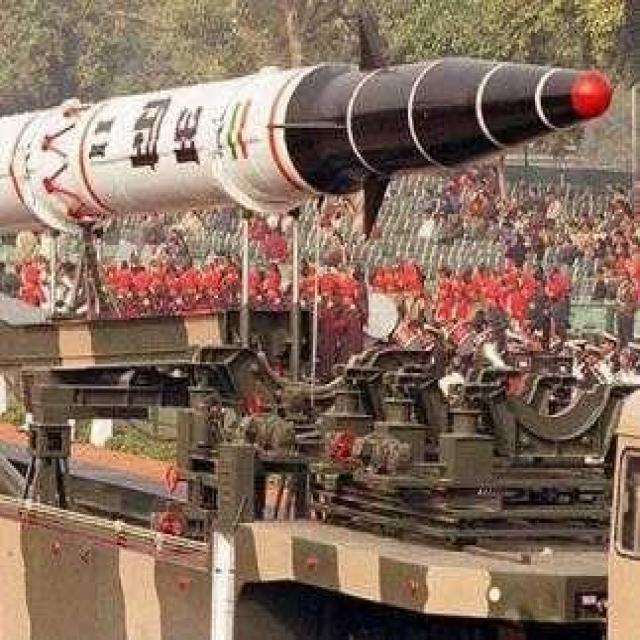missile: (2, 54, 614, 233)
